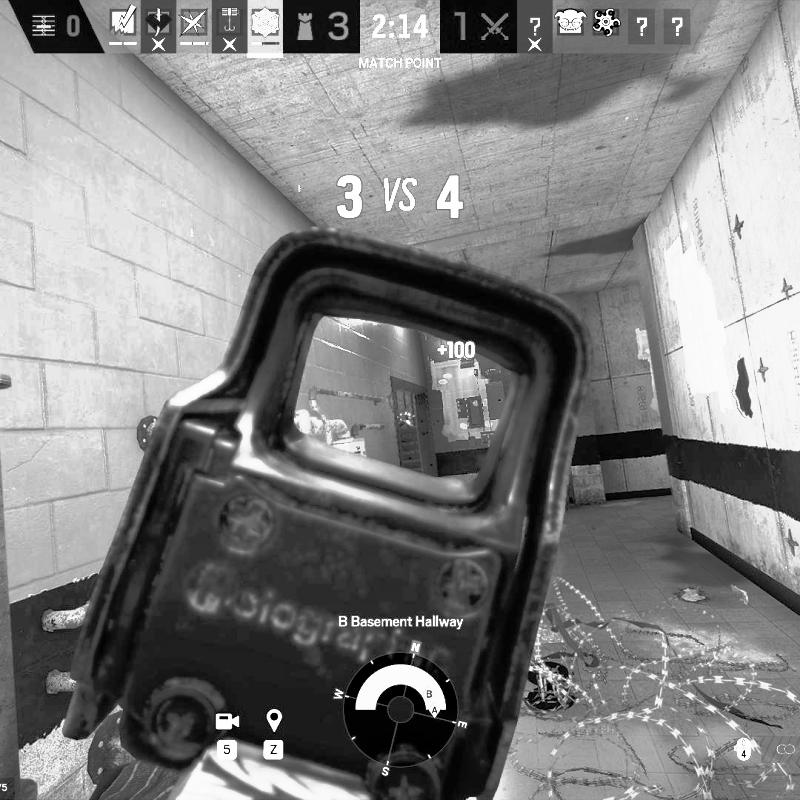Character: (399, 408, 416, 429)
